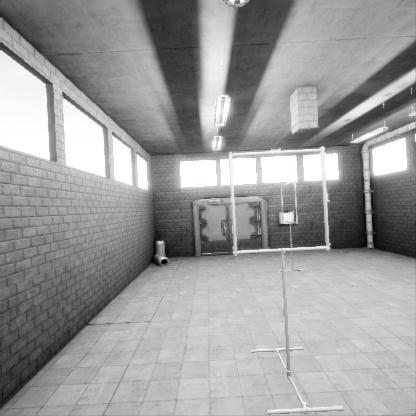gate: (231, 167, 332, 269), (280, 194, 298, 236)
